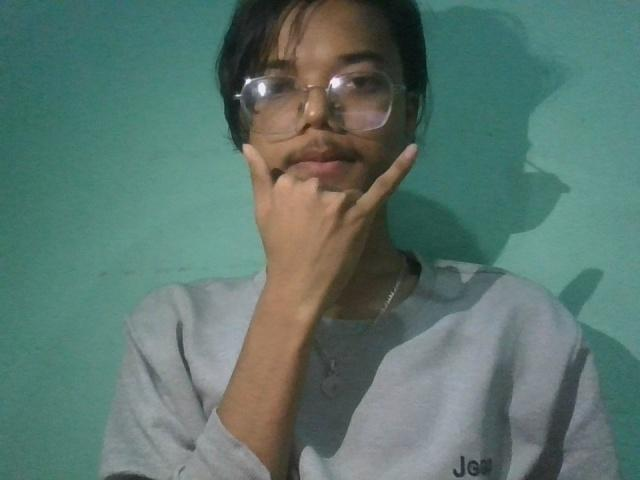Wrong: (208, 121, 434, 315)
